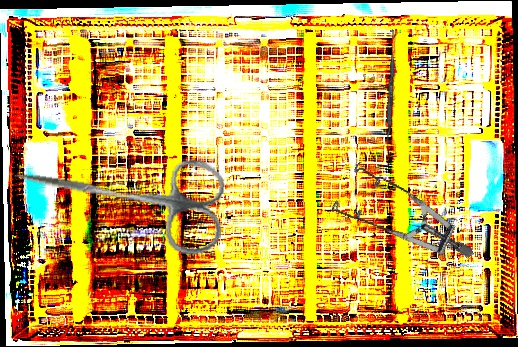Iris Scissors: (3, 130, 233, 260)
Spatula Surgical: (386, 33, 396, 149)
Speculum: (317, 135, 475, 305)
